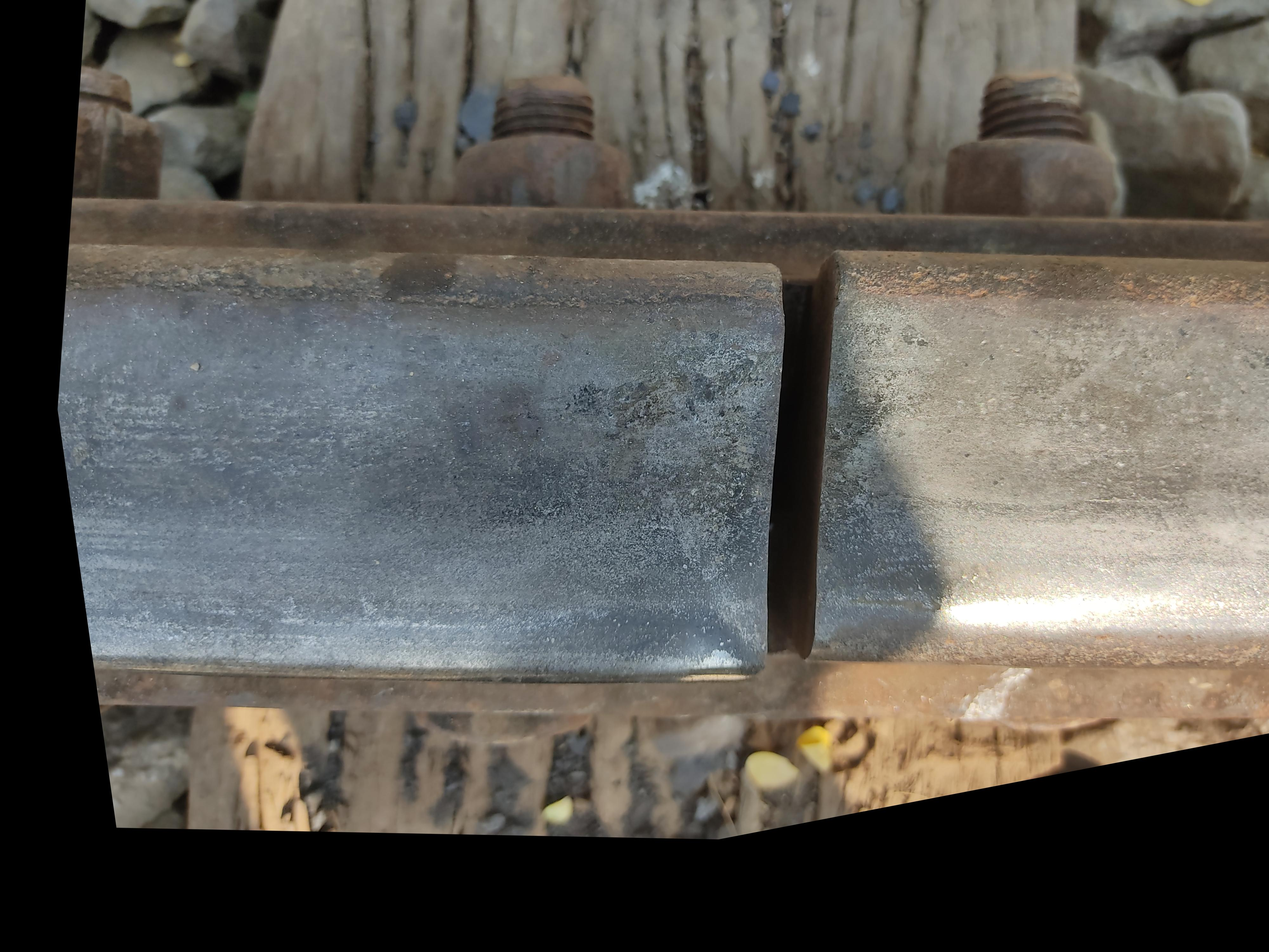person: (566, 32, 1177, 700)
